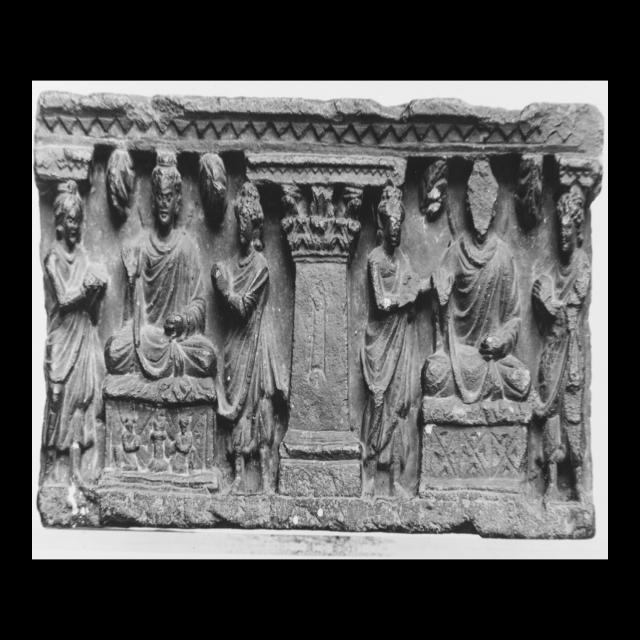buddha-sitting: (100, 153, 218, 489), (418, 160, 532, 499)
